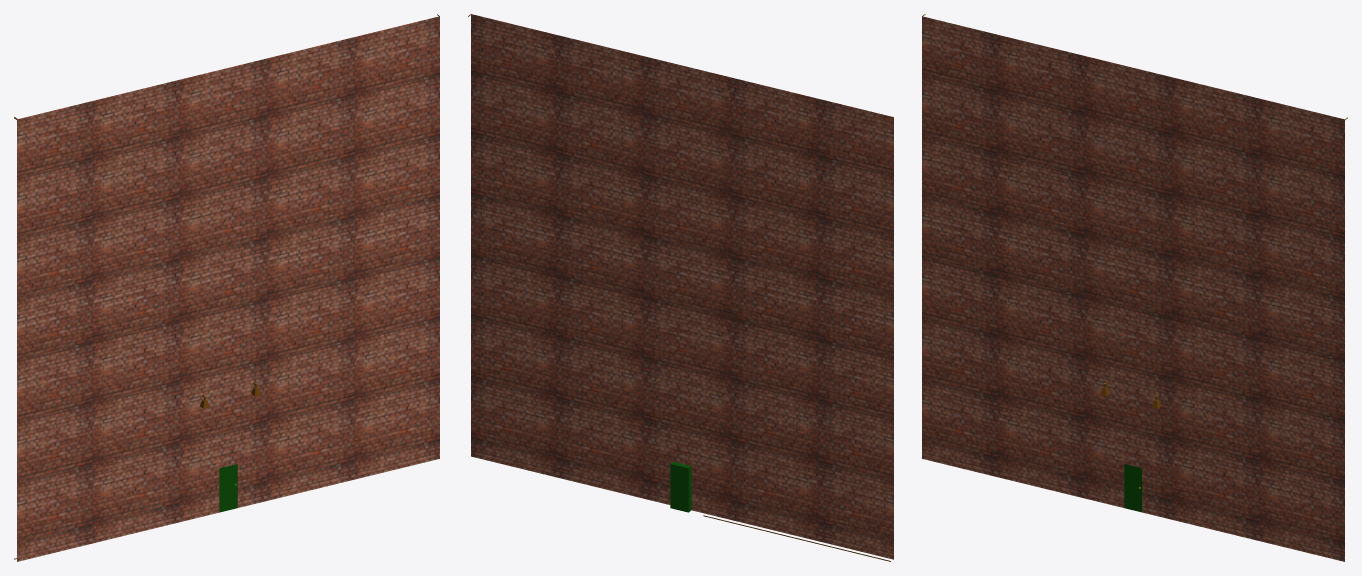
Rendered from Back_Wall_Textured_2.fbx.
The picture shows the model from 3 angles, left to right: view 1: azimuth 30°, elevation 25°; view 2: azimuth 150°, elevation 25°; view 3: azimuth 330°, elevation 25°; orthographic projection.
Parts seen in each view (by area): view 1: pCylinder3; view 2: pCylinder3; view 3: pCylinder3.
Boxes of the visible parts, x1,y1,x2,y2 form: pCylinder3: [14, 14, 439, 561]; pCylinder3: [468, 14, 893, 561]; pCylinder3: [922, 14, 1347, 561].
Size of the model in its own units: 20 by 20 by 0.5948.
1 material, 1 textured.
